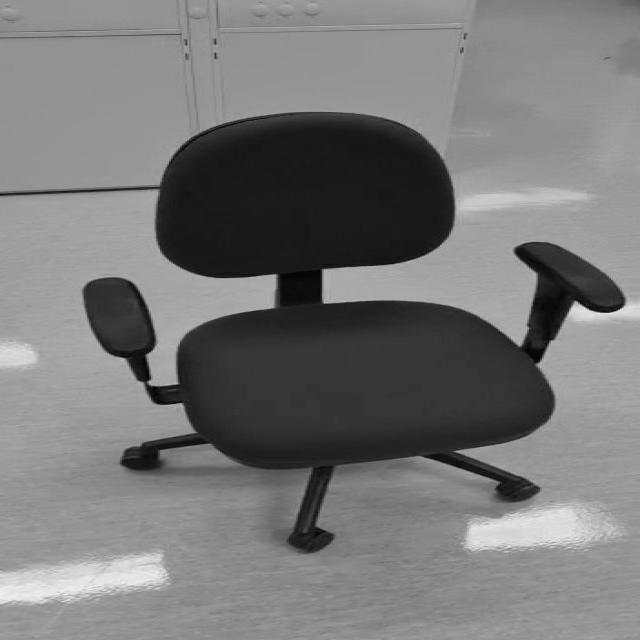cadeira-azul: (81, 112, 625, 552)
